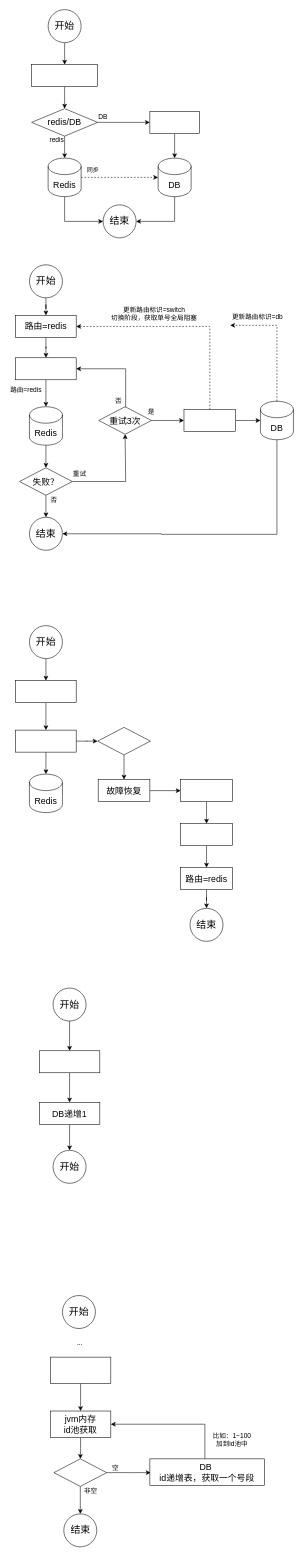
This 303x1557 diagram has some shape labels left out. Each missing label, with the centre of its shape:
"DB->同步redis" goes at point 206,834.
"redis恢复" goes at point 123,741.
"redis递增1" goes at point 69,1061.
"守护线程" goes at point 45,691.
"定时ping" goes at point 45,741.
"故障降级" goes at point 209,420.
"是否为空" goes at point 80,1472.
"获取id 降级至DB" goes at point 80,1370.
"获取单号" goes at point 45,368.
"路由=switch" goes at point 206,790.
"路由控制" goes at point 64,75.
"降级条件" goes at point 174,122.
